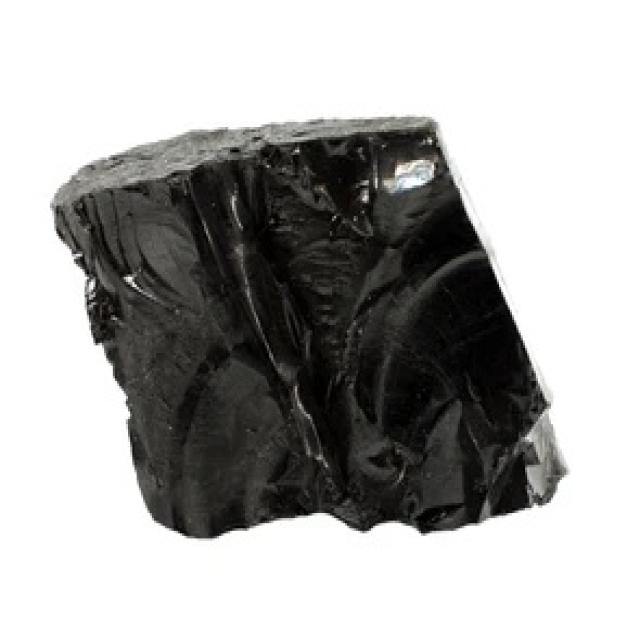Sedimentary: (37, 112, 592, 546)
